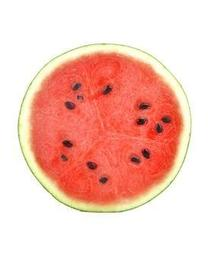watermelon: (17, 41, 191, 215)
